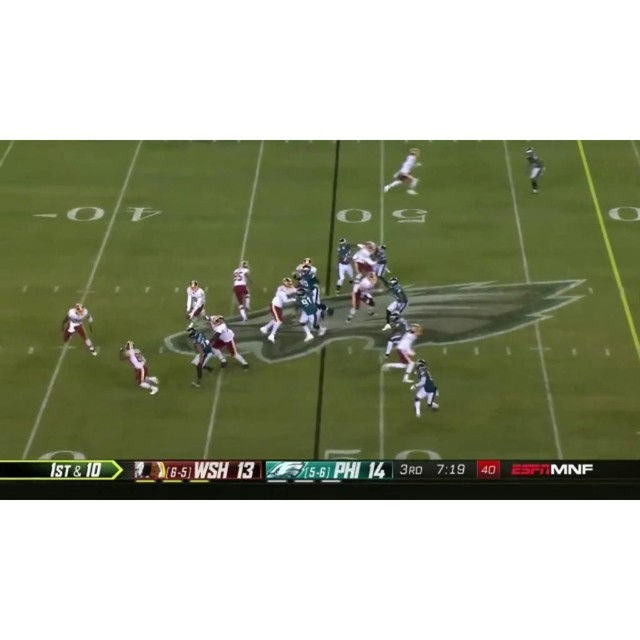american-football-player: (381, 323, 423, 382), (259, 279, 297, 344), (207, 313, 249, 371), (119, 340, 160, 394), (186, 328, 219, 387), (383, 148, 423, 196), (345, 271, 381, 323), (62, 303, 97, 356), (294, 287, 325, 343), (411, 359, 440, 418), (380, 276, 410, 331), (231, 261, 256, 322), (333, 238, 358, 294), (383, 311, 409, 360), (184, 280, 207, 328), (524, 148, 546, 195)
